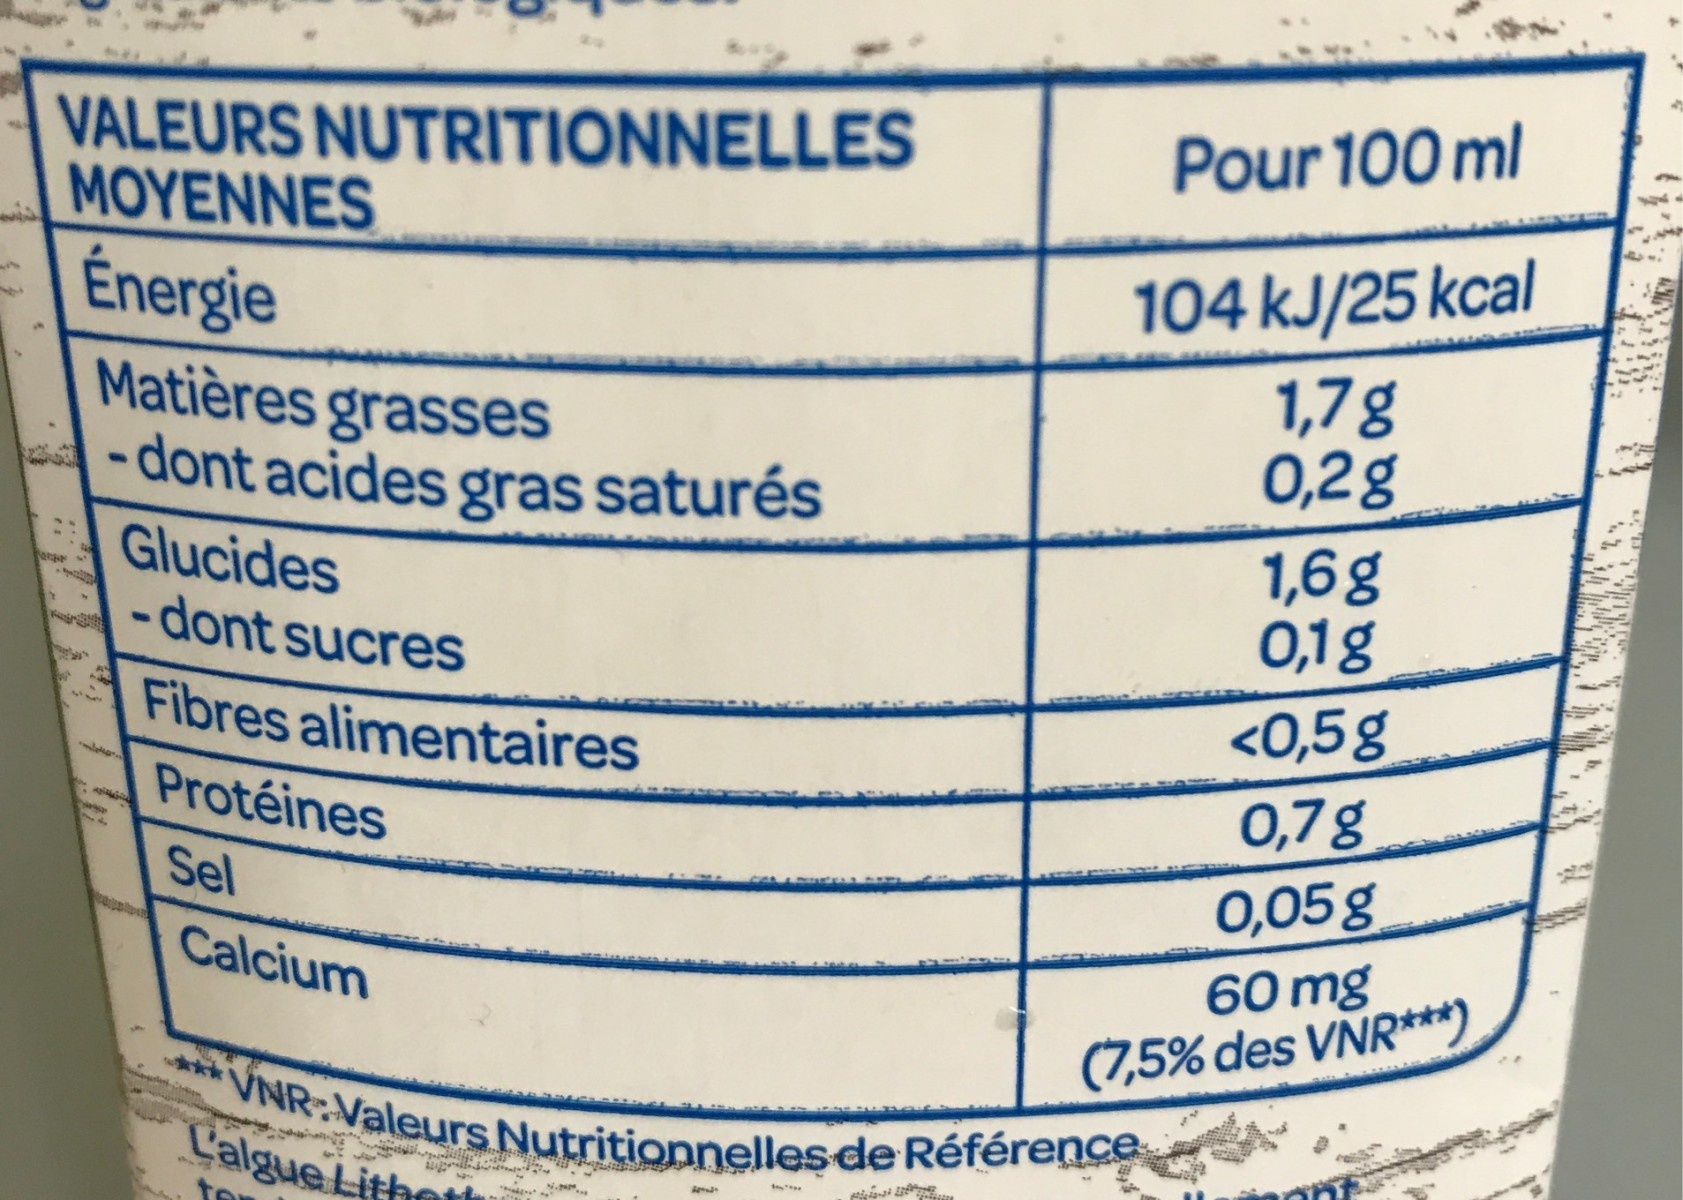column: (52, 74, 912, 1003), (1078, 70, 1539, 1082)
table: (25, 57, 1647, 1083)
